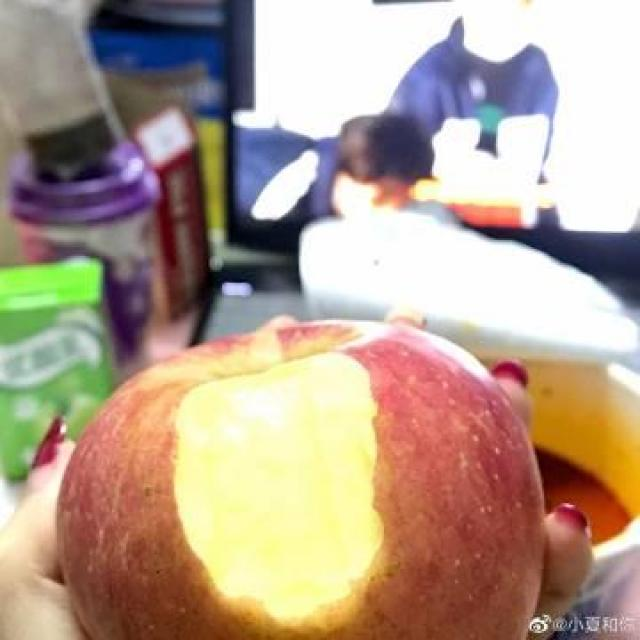Rotten: (101, 341, 523, 640)
